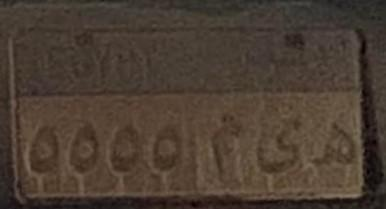5: (97, 122, 150, 184), (60, 121, 114, 181), (140, 124, 184, 184), (29, 125, 61, 190)
م: (205, 116, 245, 180)
ه: (313, 115, 366, 176)
ي: (255, 108, 312, 176)
